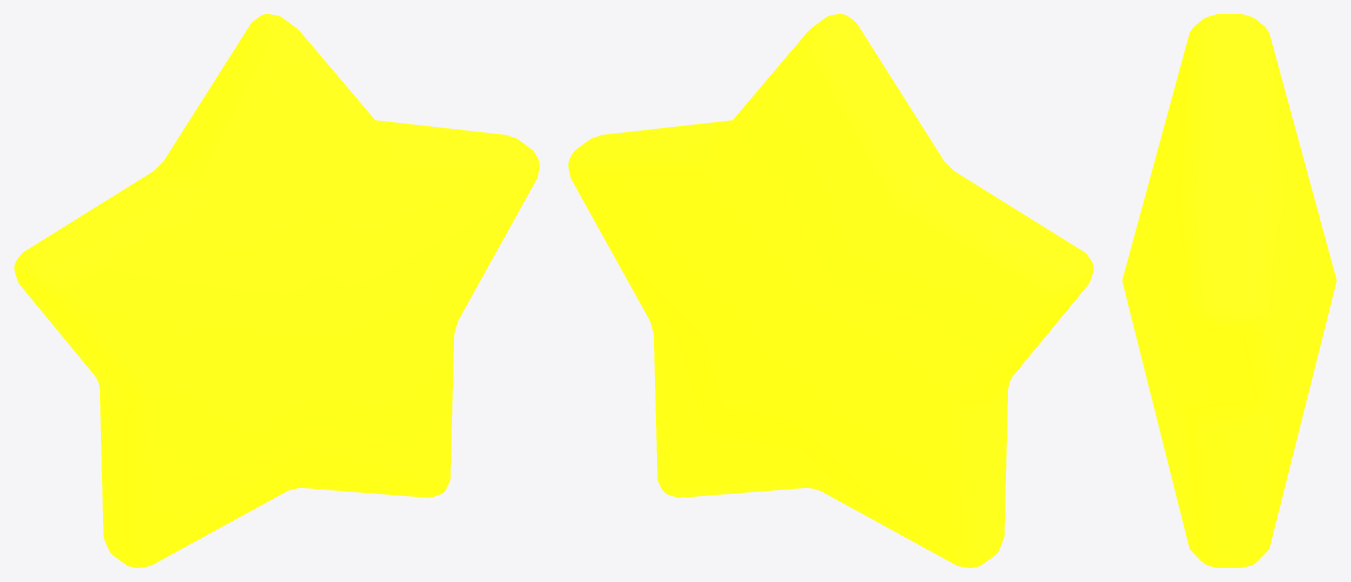
Rendered from star untitled.fbx.
3 views of the same model, side by side, from view 1: azimuth 30°, elevation 25°; view 2: azimuth 150°, elevation 25°; view 3: azimuth 270°, elevation 25° (orthographic). The views are drawn at different scales.
Visible parts, largest first — view 1: star; view 2: star; view 3: star.
Boxes of the visible parts, x1,y1,x2,y2 form: star: (14,14,539,567); star: (568,14,1093,567); star: (1122,14,1336,567).
Size of the model in its own units: 163 by 156 by 62.75.
